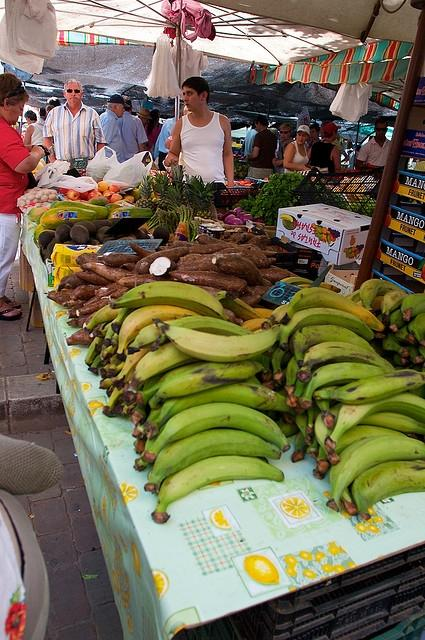banana: (152, 455, 284, 524), (145, 428, 282, 494), (144, 402, 292, 462), (145, 382, 296, 440), (326, 434, 425, 512), (323, 392, 424, 454), (148, 360, 264, 410), (152, 318, 280, 363), (109, 281, 228, 322), (280, 286, 386, 332), (316, 425, 410, 474), (298, 362, 396, 409), (117, 304, 206, 354), (352, 460, 425, 520), (279, 307, 375, 352), (288, 324, 382, 368), (296, 342, 396, 382), (313, 369, 424, 405), (134, 343, 202, 383), (314, 403, 344, 465), (163, 316, 254, 336), (360, 278, 406, 314), (357, 411, 425, 435), (215, 290, 266, 322), (84, 303, 122, 334), (381, 290, 412, 328), (315, 386, 342, 429), (111, 306, 145, 336), (103, 387, 128, 418), (382, 332, 410, 358), (400, 293, 424, 322), (389, 306, 414, 332), (284, 356, 300, 394), (408, 313, 425, 346), (296, 411, 312, 446), (271, 348, 288, 380), (291, 432, 309, 462), (278, 416, 300, 438), (267, 304, 288, 326), (84, 337, 98, 367), (405, 344, 425, 365), (103, 318, 116, 348), (395, 324, 410, 344), (132, 404, 146, 424), (306, 402, 314, 434), (114, 362, 125, 374), (102, 322, 112, 332)
pineapple: (187, 176, 217, 220), (134, 174, 156, 214), (149, 168, 171, 199), (164, 182, 186, 208), (171, 161, 186, 193), (182, 196, 190, 206)
